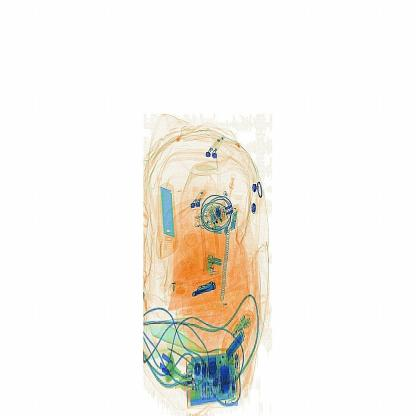pliers: (158, 178, 176, 260)
